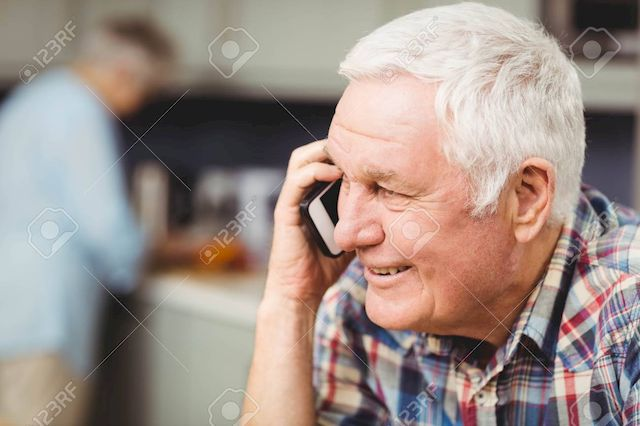phone: (296, 172, 356, 267)
talk: (277, 131, 459, 348)
